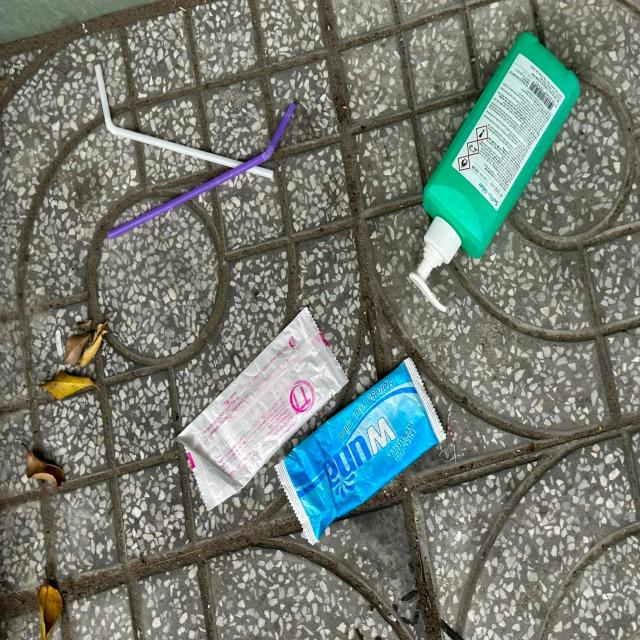bottle: (409, 32, 579, 312)
drinking straw: (106, 102, 297, 239), (95, 63, 274, 180)
packet: (173, 309, 349, 514), (274, 356, 446, 547)
